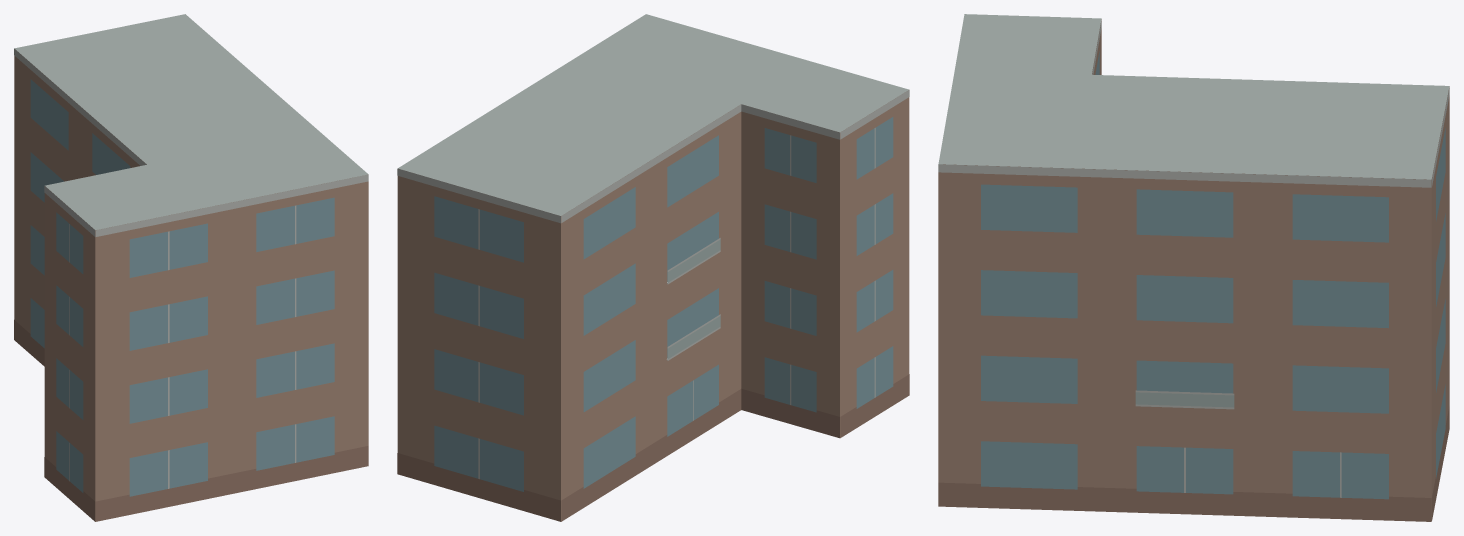
The model's file is survey-upis-32550509.glb.
The picture shows the model from 3 angles, left to right: view 1: azimuth 30°, elevation 25°; view 2: azimuth 150°, elevation 25°; view 3: azimuth 270°, elevation 25°; orthographic projection. The views are drawn at different scales.
Parts seen in each view (by area): view 1: survey-upis-32550509.tmp; view 2: survey-upis-32550509.tmp; view 3: survey-upis-32550509.tmp.
Part boxes in pixels (box(x1,y1,x2,y2)): survey-upis-32550509.tmp: box(14, 14, 368, 521); survey-upis-32550509.tmp: box(397, 14, 909, 521); survey-upis-32550509.tmp: box(938, 14, 1449, 521).
Bounding box in the file's own units: 10.59 × 10.2 × 13.82.
